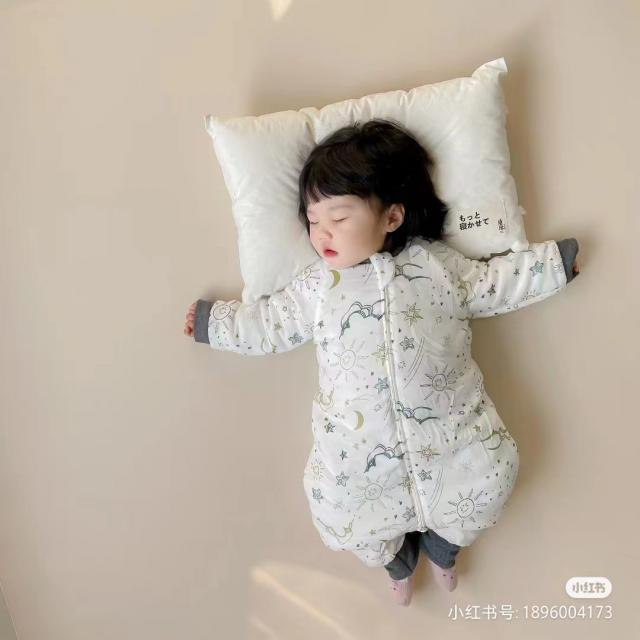child: (203, 125, 559, 555)
